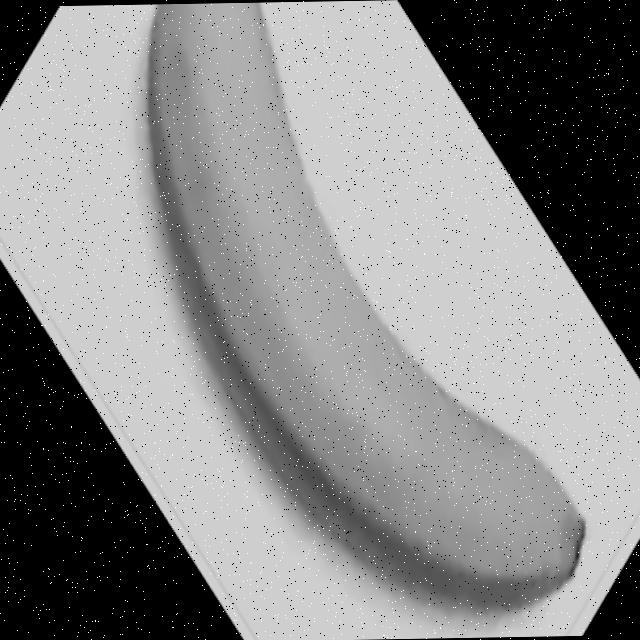banana: (148, 0, 589, 613)
